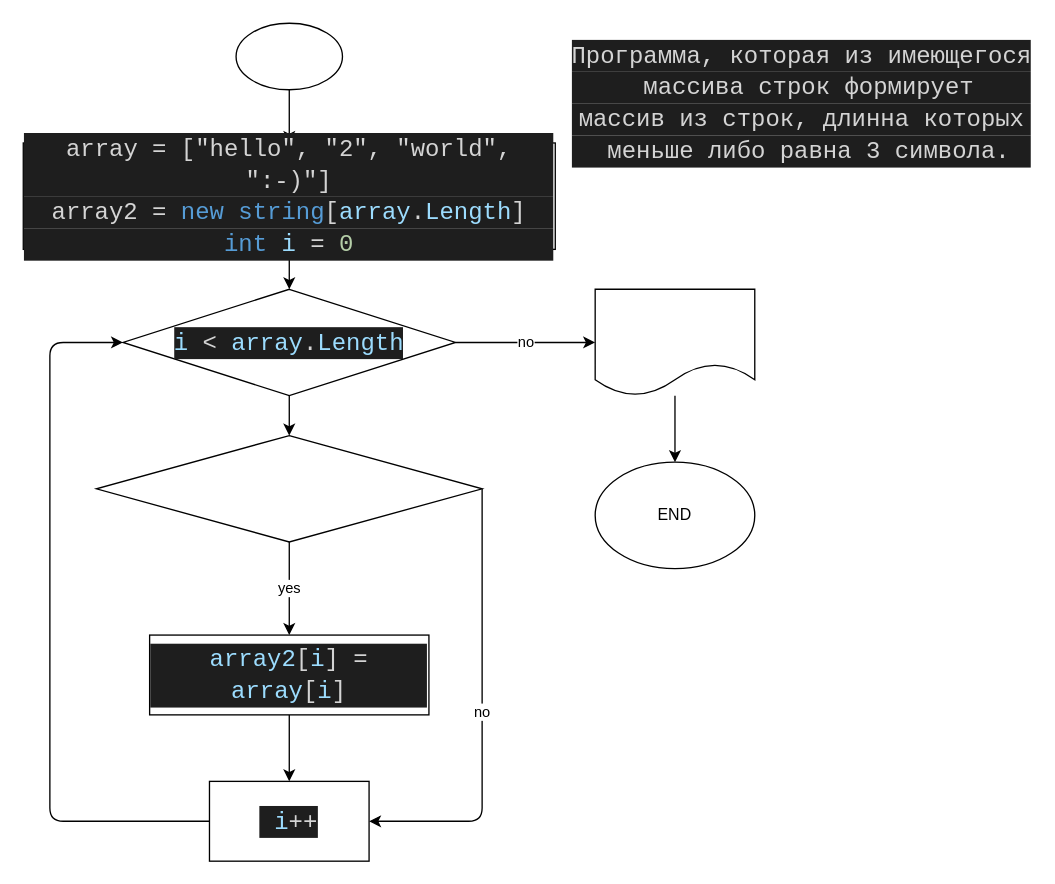
This 1055x884 diagram has some shape labels left out. The shapes that lost their labels are listed below. From the top down, each one's centre as x and y in pixels, then its label:
At (288,56): "Start".
At (674,342): "void PrintArray".
At (288,488): "array [ i ]. Length <= 3".
